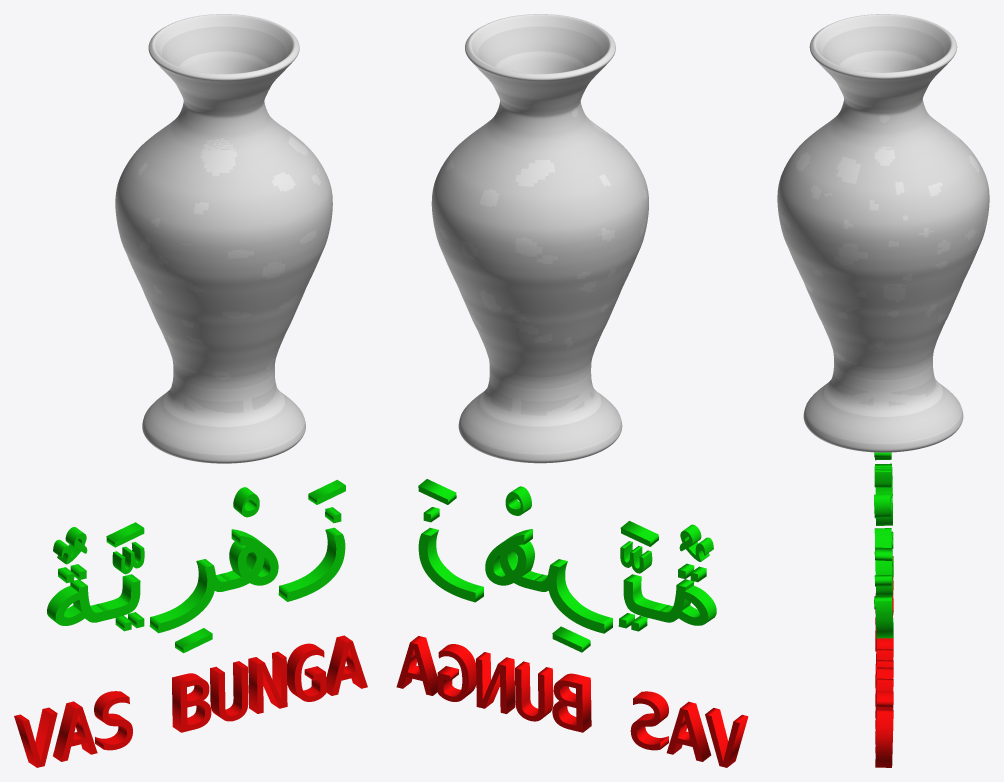
File: vase.fbx
The picture shows the model from 3 angles, left to right: view 1: azimuth 30°, elevation 25°; view 2: azimuth 150°, elevation 25°; view 3: azimuth 270°, elevation 25°; orthographic projection. The views are drawn at different scales.
Visible parts, largest first — view 1: Circle, Teks.006, Text, Teks.005, Teks.003, Teks.001; view 2: Circle, Teks.006, Text, Teks.005, Teks.003, Teks.001; view 3: Circle, Teks.006, Text, Teks.001, Teks.003.
Part boxes in pixels (x1,y1,x2,y2): Circle: (115,14,332,463); Teks.006: (14,635,367,767); Text: (47,507,345,633); Teks.005: (53,527,87,564); Teks.003: (112,542,144,574); Teks.001: (233,487,259,517); Circle: (431,14,648,463); Teks.006: (396,636,748,767); Text: (418,507,716,633); Teks.005: (679,524,713,561); Teks.003: (620,541,652,573); Teks.001: (505,486,531,515); Circle: (777,14,989,452); Teks.006: (875,556,893,767); Text: (874,452,893,638); Teks.001: (874,494,891,517); Teks.003: (874,465,891,487).
Size of the model in its own units: 463 by 868 by 253.
